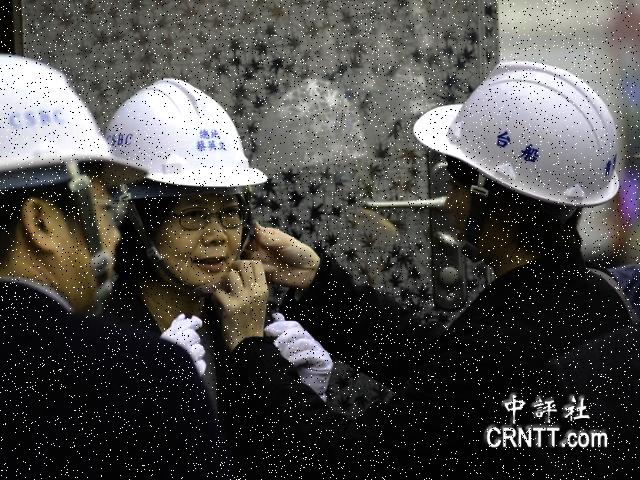Helmet: (409, 55, 622, 219), (104, 72, 271, 200), (0, 51, 117, 193)
